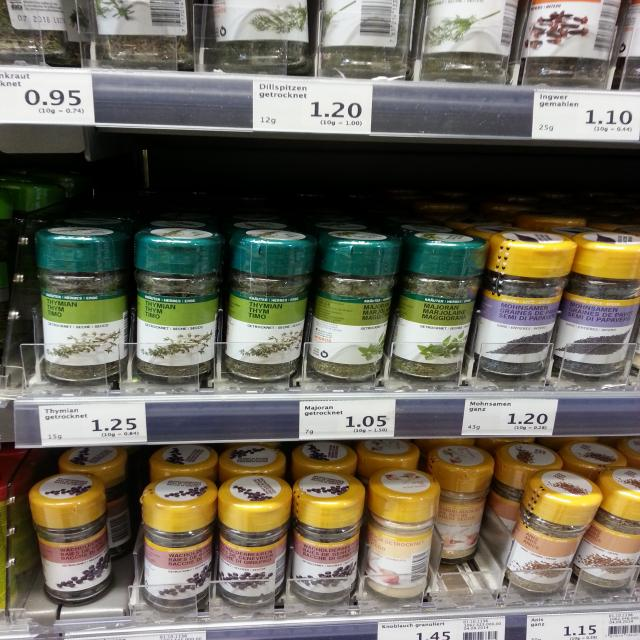Spices: (469, 229, 576, 378), (34, 226, 130, 382), (389, 229, 487, 380), (307, 228, 400, 382), (222, 228, 313, 383), (551, 230, 640, 377), (502, 467, 604, 593), (134, 226, 216, 380), (28, 470, 116, 606), (141, 473, 217, 609), (217, 472, 293, 606), (368, 465, 440, 599), (294, 471, 366, 603), (571, 464, 640, 590), (426, 442, 496, 562)
